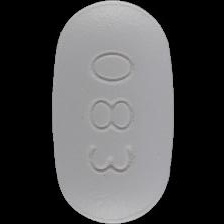61919-181: (0, 0, 224, 224)
